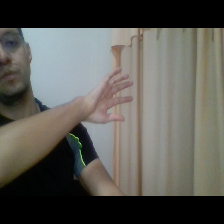left: (75, 65, 140, 125)
